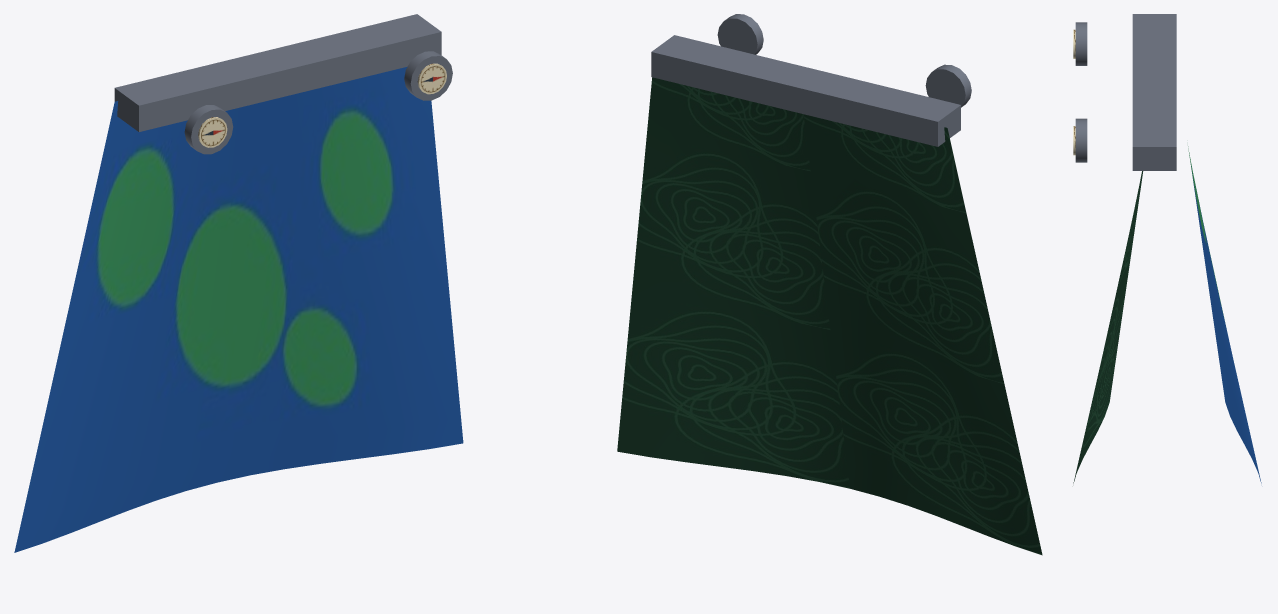
Rendered from back_eqsa0.glb.
3 renders of one model, left to right at view 1: azimuth 30°, elevation 25°; view 2: azimuth 150°, elevation 25°; view 3: azimuth 270°, elevation 25°, orthographic. The views are drawn at different scales.
Bounding box in the file's own units: 3.19 × 3.23 × 1.31.
5 materials, 4 textured.
